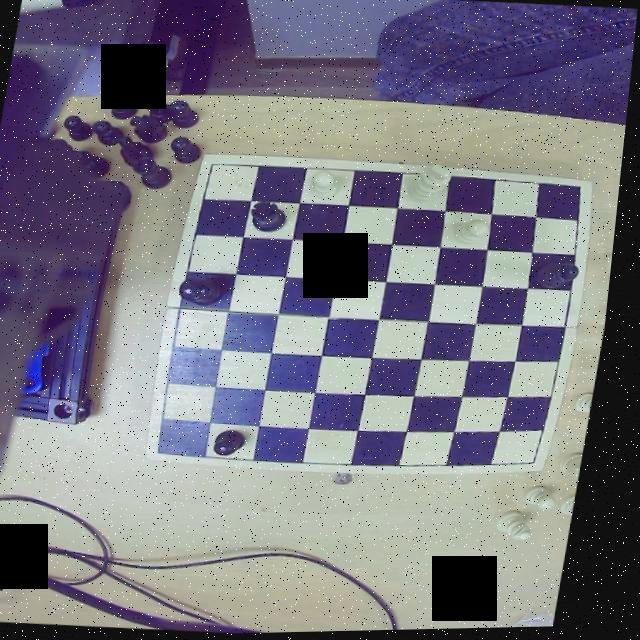chess-table-corners: (157, 437, 185, 460), (202, 156, 228, 178), (566, 180, 596, 198), (532, 450, 557, 470)
